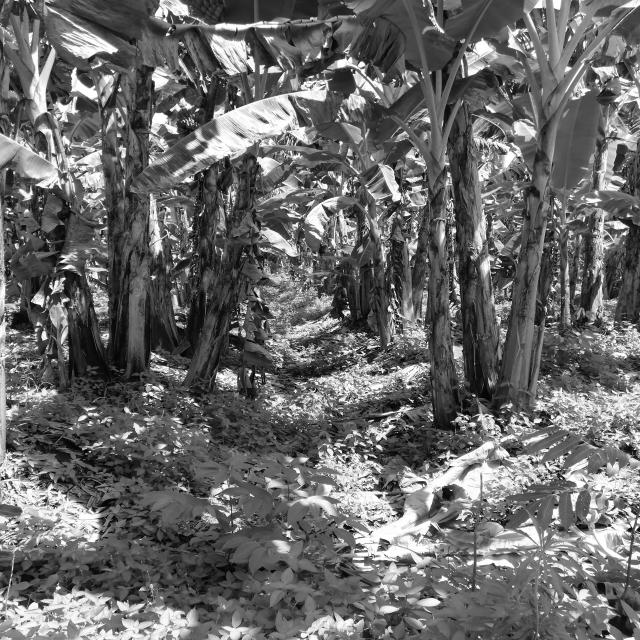Banana-plant: (487, 59, 605, 429), (91, 45, 160, 379), (453, 61, 498, 402), (194, 165, 258, 397), (412, 107, 457, 420)
